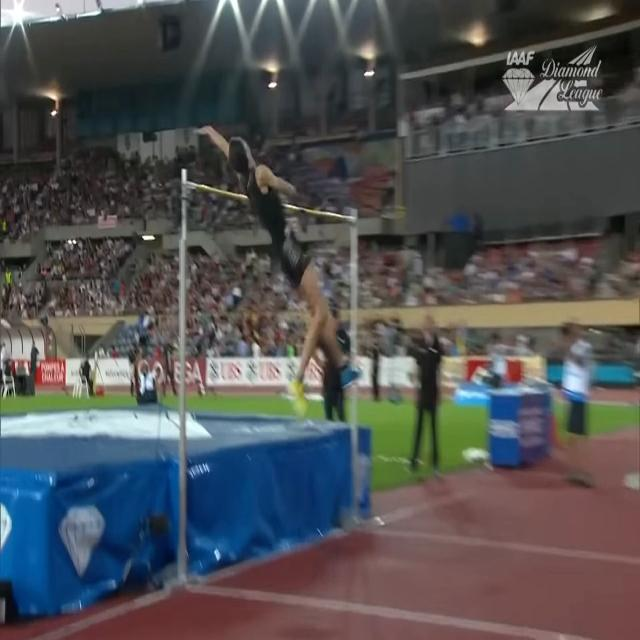jump: (196, 122, 362, 418)
